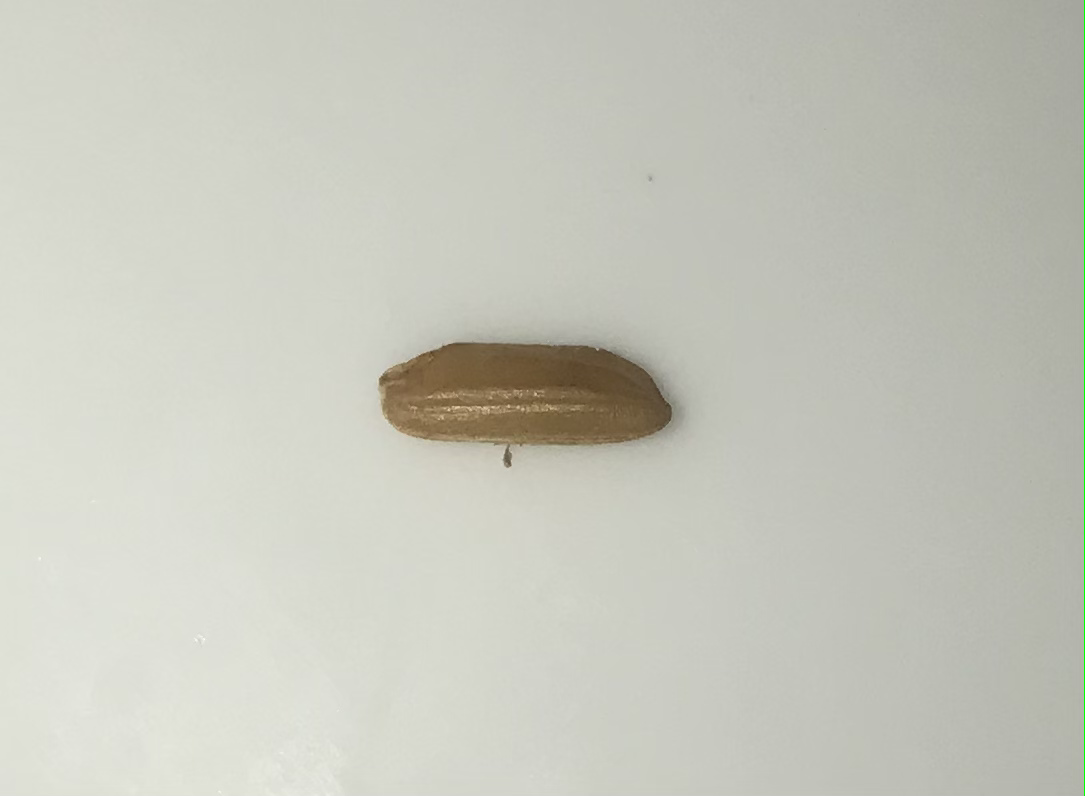Gao Lut Dien Bien: (374, 330, 682, 453)
